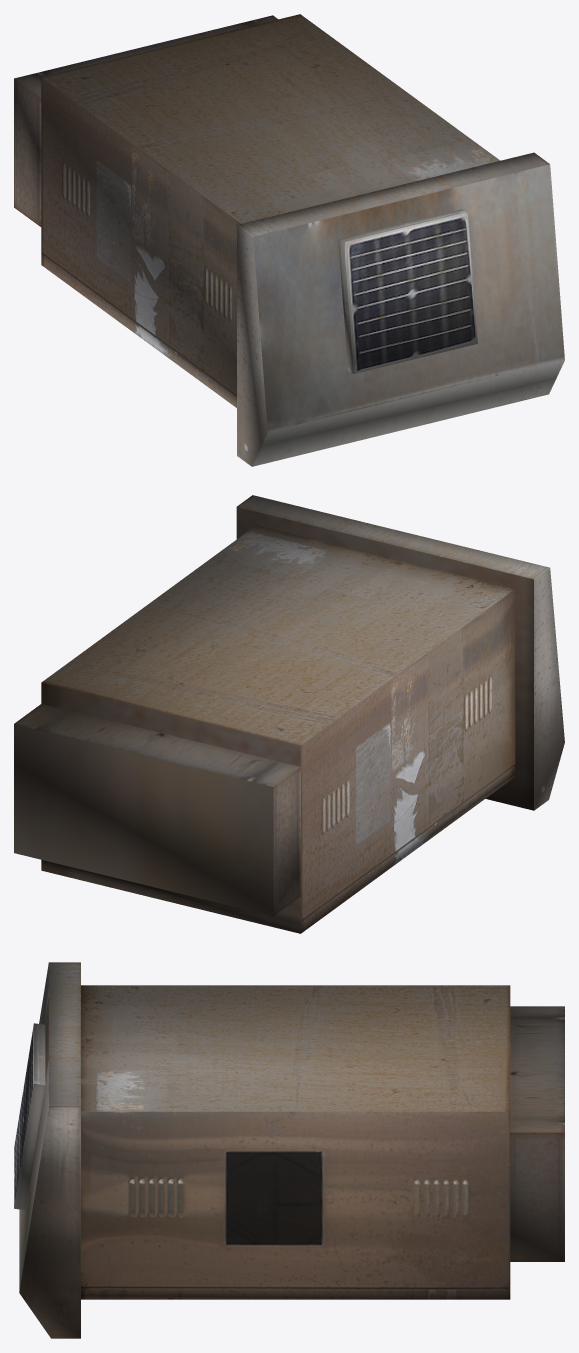
The model's file is RTF3801220720_0433L_01_normalization.obj.
3 renders of one model, top to bottom at view 1: azimuth 30°, elevation 25°; view 2: azimuth 150°, elevation 25°; view 3: azimuth 270°, elevation 25°, orthographic.
Visible parts, largest first — view 1: RTF3801220720_0433S_01; view 2: RTF3801220720_0433S_01; view 3: RTF3801220720_0433S_01.
Part boxes in pixels (x1,y1,x2,y2): RTF3801220720_0433S_01: (14,14,564,466); RTF3801220720_0433S_01: (14,495,564,933); RTF3801220720_0433S_01: (14,962,564,1338).
Size of the model in its own units: 0.4923 by 0.3657 by 0.7899.
1 material, 1 textured.
